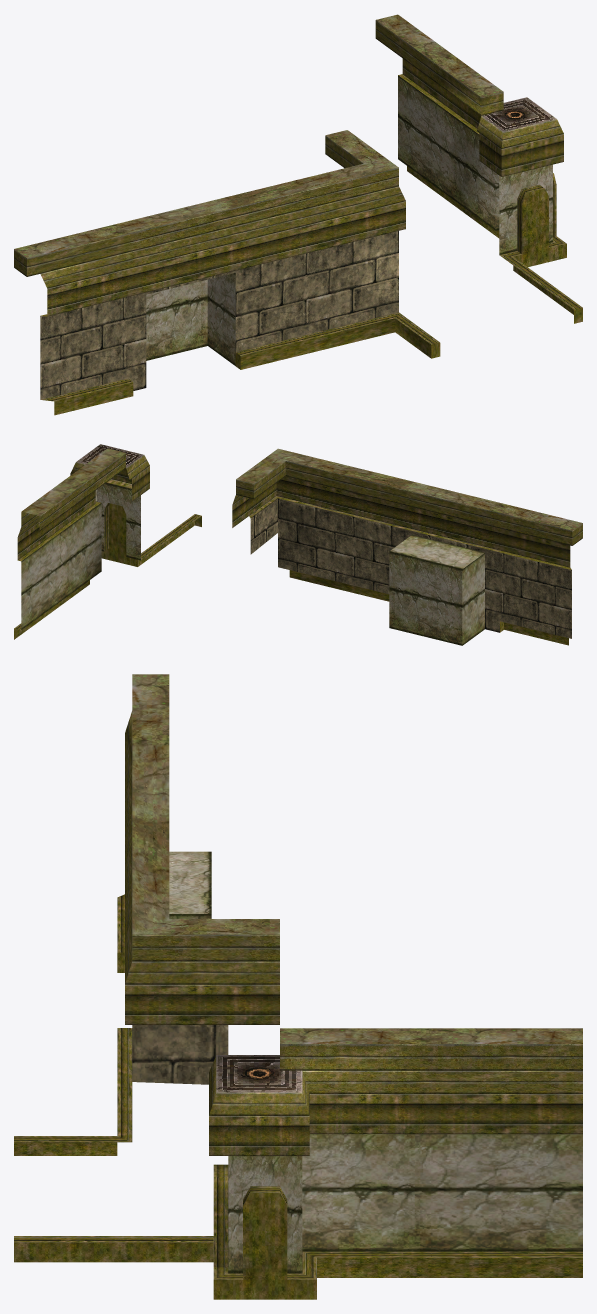
File: OVERHILL_A_01_DWARF_STEP02.fbx
3 renders of one model, top to bottom at view 1: azimuth 30°, elevation 25°; view 2: azimuth 150°, elevation 25°; view 3: azimuth 270°, elevation 25°, orthographic. The views are drawn at different scales.
Parts seen in each view (by area): view 1: OVERHILL_A_01_DWARF_STEP02; view 2: OVERHILL_A_01_DWARF_STEP02; view 3: OVERHILL_A_01_DWARF_STEP02.
Part boxes in pixels (box(x1,y1,x2,y2)): OVERHILL_A_01_DWARF_STEP02: box(14, 14, 582, 415); OVERHILL_A_01_DWARF_STEP02: box(14, 444, 582, 645); OVERHILL_A_01_DWARF_STEP02: box(14, 674, 582, 1299).
Bounding box in the file's own units: 127401 × 34000 × 77001.
8 materials, 8 textured.
